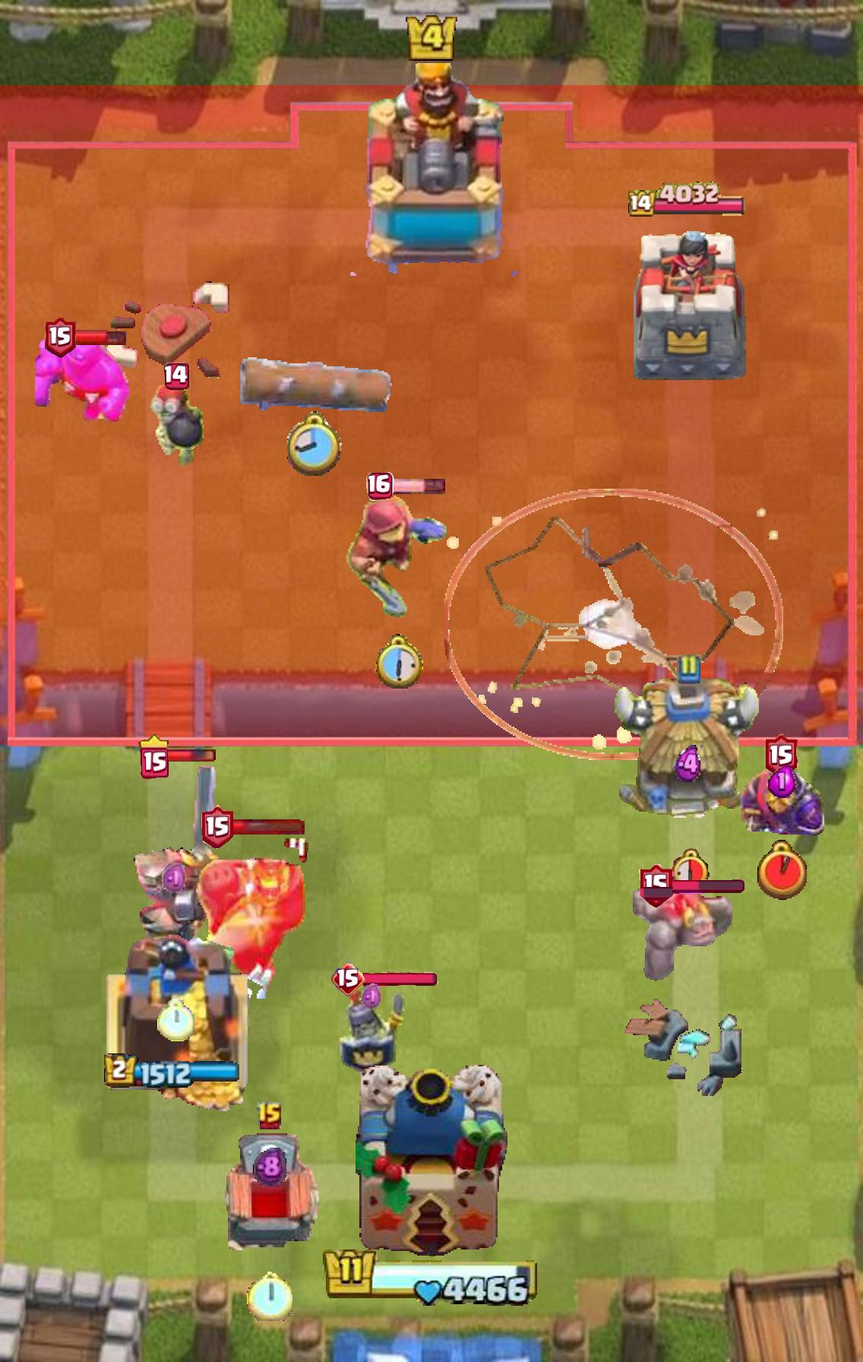elixir: (253, 1147, 286, 1188), (673, 745, 703, 784), (768, 764, 797, 798), (162, 862, 189, 896), (361, 983, 384, 1011)
